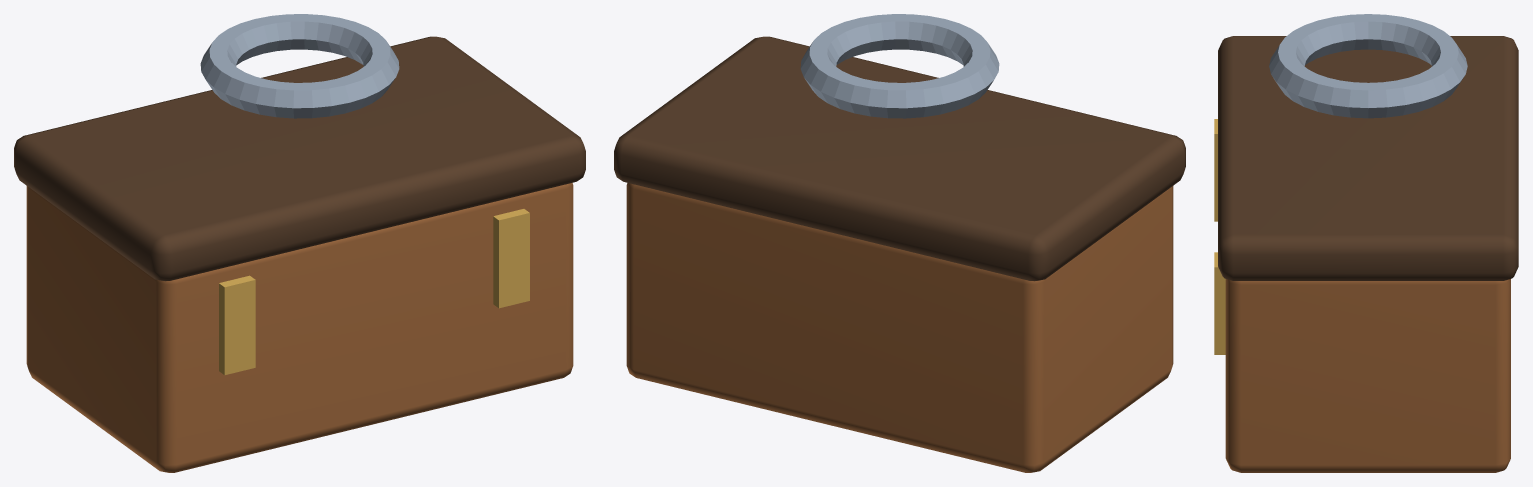
Rendered from switzerland-toolbox.glb.
3 views of the same model, side by side, from view 1: azimuth 30°, elevation 25°; view 2: azimuth 150°, elevation 25°; view 3: azimuth 270°, elevation 25° (orthographic).
Visible parts, largest first — view 1: こうぐばこ, ふた, もちて, どめがね, どめがね.001; view 2: こうぐばこ, ふた, もちて; view 3: ふた, こうぐばこ, もちて, どめがね.001, どめがね.
Boxes of the visible parts, left/top/right/bottom form: こうぐばこ: left=26, top=183, right=573, bottom=472; ふた: left=14, top=36, right=585, bottom=281; もちて: left=200, top=14, right=399, bottom=118; どめがね: left=219, top=275, right=255, bottom=375; どめがね.001: left=493, top=209, right=529, bottom=308; こうぐばこ: left=626, top=183, right=1173, bottom=472; ふた: left=614, top=36, right=1185, bottom=281; もちて: left=800, top=14, right=999, bottom=118; ふた: left=1218, top=36, right=1518, bottom=280; こうぐばこ: left=1225, top=279, right=1510, bottom=472; もちて: left=1269, top=14, right=1467, bottom=118; どめがね.001: left=1214, top=252, right=1225, bottom=354; どめがね: left=1214, top=119, right=1217, bottom=221.
Size of the model in its own units: 0.98 by 0.7053 by 0.5975.
